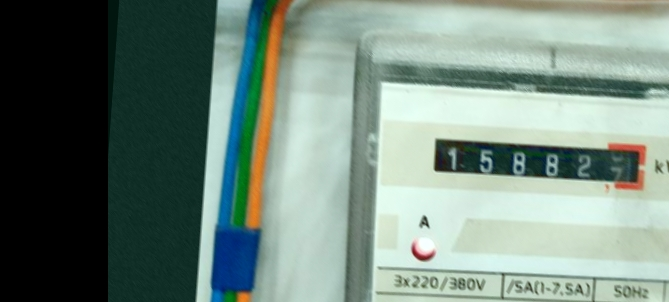1: (443, 140, 459, 169)
2: (573, 148, 591, 177)
5: (475, 143, 494, 172)
7: (605, 161, 623, 179)
8: (507, 146, 525, 175), (541, 147, 558, 176)
screen: (417, 118, 656, 197)
